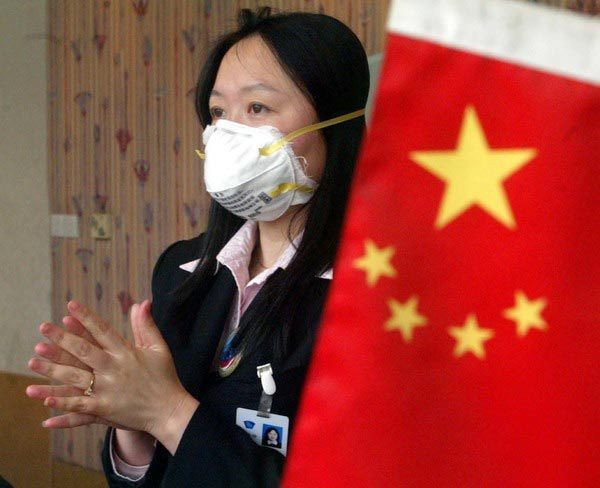face_mask: (201, 42, 324, 208)
